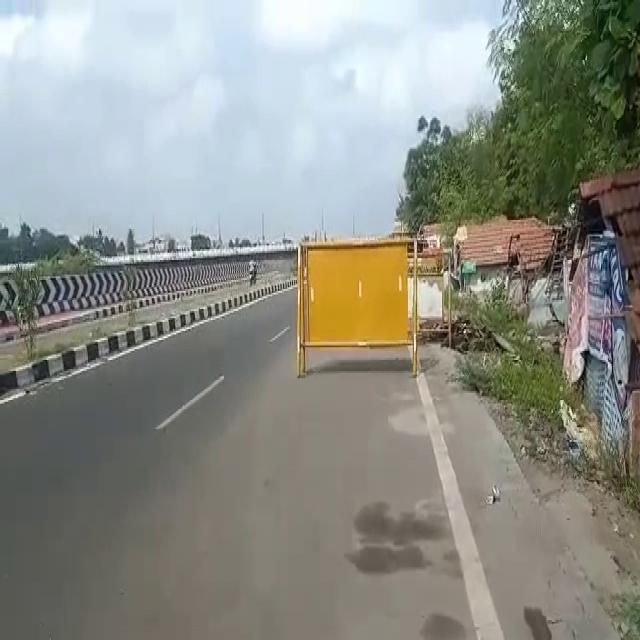fallen_object: (276, 207, 446, 385)
